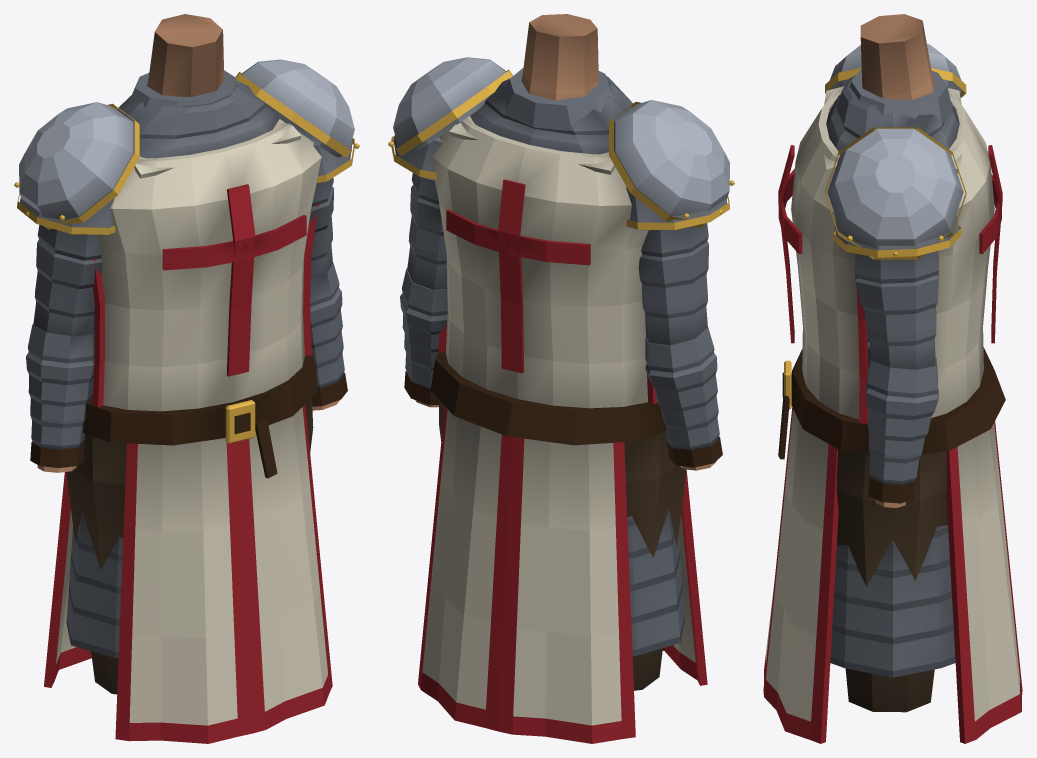
Rendered from a_surcoat.glb.
3 renders of one model, left to right at view 1: azimuth 30°, elevation 25°; view 2: azimuth 150°, elevation 25°; view 3: azimuth 270°, elevation 25°, orthographic.
Parts seen in each view (by area): view 1: SurcoatF, PanelFR, PanelFL, ArmR_Spaulder, Belt, ArmR_Fore, ArmL_Spaulder, Torso, Cross, Neck, ArmR_Upper, LegR_Thigh (+4 smaller); view 2: SurcoatB, PanelBR, PanelBL, ArmR_Spaulder, Neck, Belt, ArmR_Fore, ArmL_Spaulder, ArmR_Upper, Cross, MailR, LegR_Thigh (+4 smaller); view 3: PanelFL, PanelBL, ArmL_Spaulder, SurcoatF, MailL, LegL_Thigh, SurcoatB, ArmL_Upper, ArmL_Fore, Neck, Belt, Torso (+2 smaller).
Part boxes in pixels (x1=…): SurcoatF: x1=93, y1=122, x2=321, y2=411; PanelFR: x1=115, y1=438, x2=252, y2=743; PanelFL: x1=238, y1=404, x2=332, y2=733; ArmR_Spaulder: x1=14, y1=102, x2=139, y2=234; Belt: x1=83, y1=355, x2=317, y2=478; ArmR_Fore: x1=26, y1=324, x2=94, y2=472; ArmL_Spaulder: x1=235, y1=59, x2=359, y2=183; Torso: x1=116, y1=81, x2=279, y2=158; Cross: x1=162, y1=184, x2=306, y2=376; Neck: x1=129, y1=14, x2=240, y2=108; ArmR_Upper: x1=33, y1=225, x2=102, y2=336; LegR_Thigh: x1=66, y1=433, x2=126, y2=694; SurcoatB: x1=432, y1=118, x2=657, y2=408; PanelBR: x1=498, y1=437, x2=635, y2=743; PanelBL: x1=418, y1=406, x2=512, y2=731; ArmR_Spaulder: x1=608, y1=100, x2=734, y2=230; Neck: x1=504, y1=14, x2=615, y2=130; Belt: x1=430, y1=351, x2=666, y2=445; ArmR_Fore: x1=645, y1=327, x2=722, y2=470; ArmL_Spaulder: x1=388, y1=57, x2=513, y2=180; ArmR_Upper: x1=638, y1=223, x2=708, y2=345; Cross: x1=446, y1=179, x2=590, y2=373; MailR: x1=627, y1=509, x2=684, y2=656; LegR_Thigh: x1=624, y1=431, x2=686, y2=690; PanelFL: x1=763, y1=407, x2=838, y2=743; PanelBL: x1=946, y1=421, x2=1022, y2=743; ArmL_Spaulder: x1=825, y1=127, x2=966, y2=259; SurcoatF: x1=791, y1=86, x2=868, y2=423; MailL: x1=830, y1=525, x2=955, y2=677; LegL_Thigh: x1=836, y1=449, x2=947, y2=712; SurcoatB: x1=931, y1=90, x2=994, y2=417; ArmL_Upper: x1=855, y1=251, x2=938, y2=369; ArmL_Fore: x1=866, y1=356, x2=938, y2=507; Neck: x1=850, y1=14, x2=952, y2=122; Belt: x1=778, y1=347, x2=1005, y2=459; Torso: x1=826, y1=75, x2=959, y2=367.
Size of the model in its own units: 0.5757 by 1.13 by 0.4.
